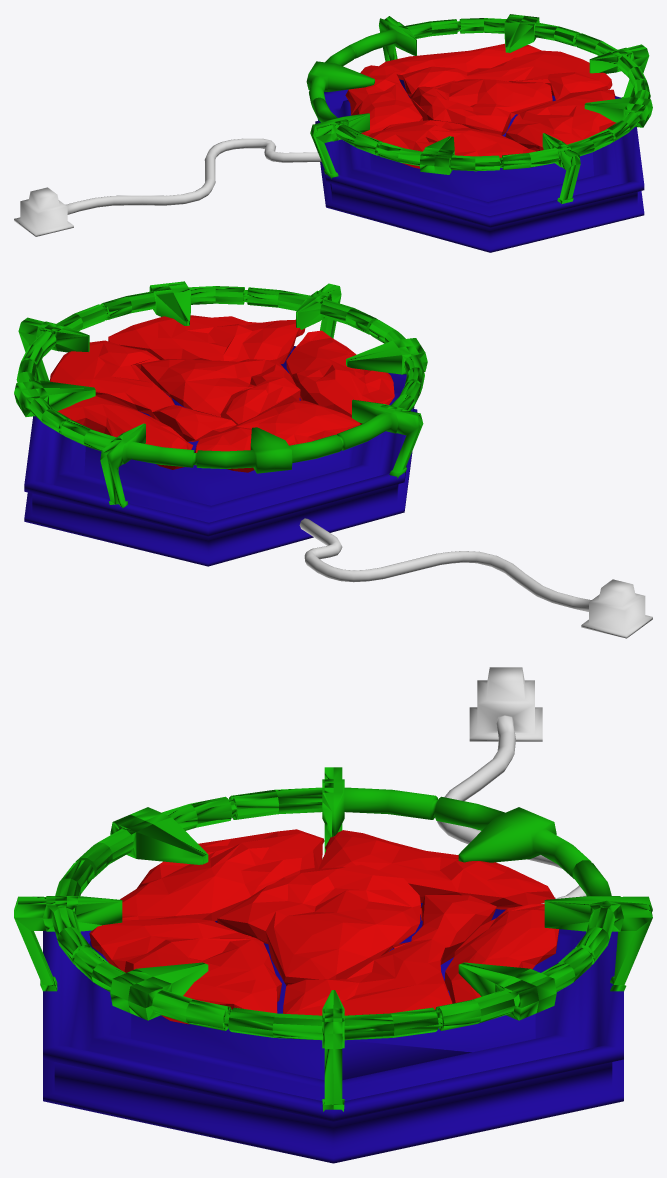
Rendered from GPE_Magic_portal_LP.FBX.
3 renders of one model, top to bottom at view 1: azimuth 30°, elevation 25°; view 2: azimuth 150°, elevation 25°; view 3: azimuth 270°, elevation 25°, orthographic. The views are drawn at different scales.
Parts seen in each view (by area): view 1: Structure_lp; view 2: Structure_lp; view 3: Structure_lp.
Boxes of the visible parts, x1,y1,x2,y2 form: Structure_lp: (14, 14, 652, 252); Structure_lp: (14, 281, 652, 638); Structure_lp: (14, 667, 652, 1163).
Size of the model in its own units: 158 by 22.08 by 92.25.
